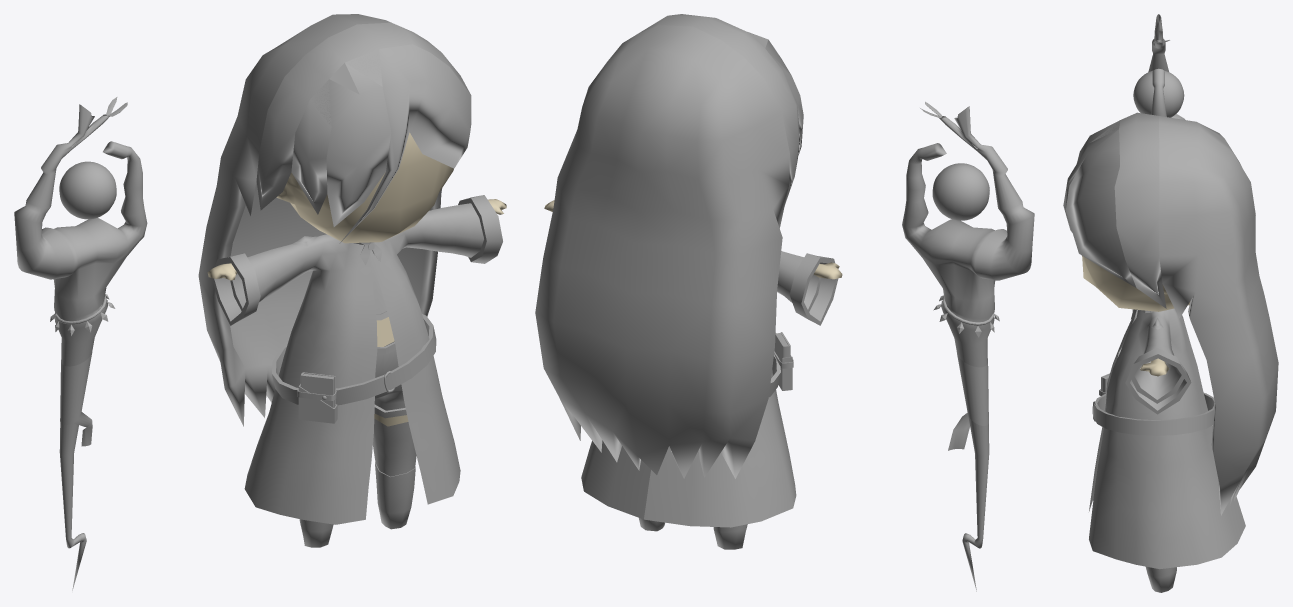
Rendered from tes3.fbx.
3 views of the same model, side by side, from view 1: azimuth 30°, elevation 25°; view 2: azimuth 150°, elevation 25°; view 3: azimuth 270°, elevation 25° (orthographic). The views are drawn at different scales.
Parts seen in each view (by area): view 1: hear, cloth, polySurface12, body, belt, pSphere1, L_socks, L_boots, polySurface1, botom, bookstand, book (+1 smaller); view 2: hear, cloth, polySurface12, pSphere1, polySurface1, R_boots; view 3: hear, cloth, body, belt, pSphere1, polySurface12, L_boots.
Part boxes in pixels (bbox=[...]): hear: bbox=[198, 14, 471, 426]; cloth: bbox=[212, 195, 502, 524]; polySurface12: bbox=[14, 104, 147, 590]; body: bbox=[207, 132, 506, 426]; belt: bbox=[272, 314, 436, 405]; pSphere1: bbox=[59, 161, 116, 219]; L_socks: bbox=[373, 419, 416, 476]; L_boots: bbox=[375, 462, 415, 529]; polySurface1: bbox=[60, 352, 92, 446]; botom: bbox=[374, 341, 406, 418]; bookstand: bbox=[298, 384, 337, 423]; book: bbox=[300, 372, 335, 408]; hear: bbox=[535, 14, 803, 478]; cloth: bbox=[581, 251, 838, 527]; polySurface12: bbox=[902, 106, 1034, 591]; pSphere1: bbox=[932, 163, 989, 220]; polySurface1: bbox=[948, 354, 988, 450]; R_boots: bbox=[713, 524, 747, 549]; hear: bbox=[1063, 112, 1278, 515]; cloth: bbox=[1089, 308, 1245, 569]; body: bbox=[1082, 256, 1190, 376]; belt: bbox=[1094, 393, 1214, 435]; pSphere1: bbox=[1133, 70, 1184, 117]; polySurface12: bbox=[1148, 14, 1185, 119]; L_boots: bbox=[1146, 566, 1176, 592].
Size of the model in its own units: 104 by 104 by 45.01.
